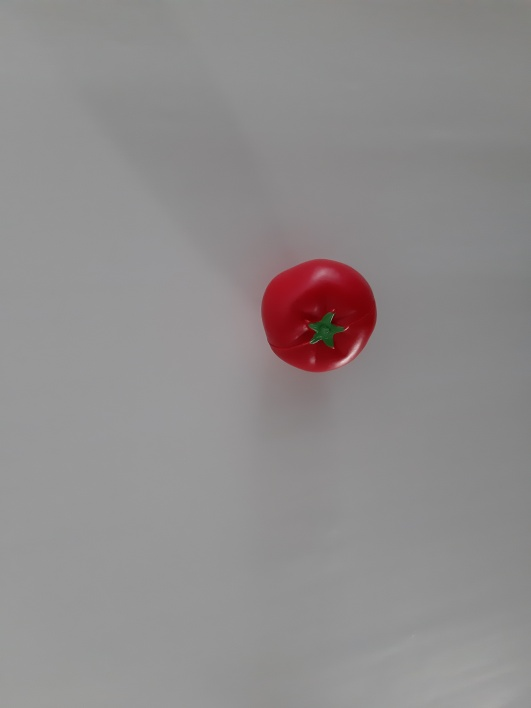tomato: (254, 248, 391, 388)
